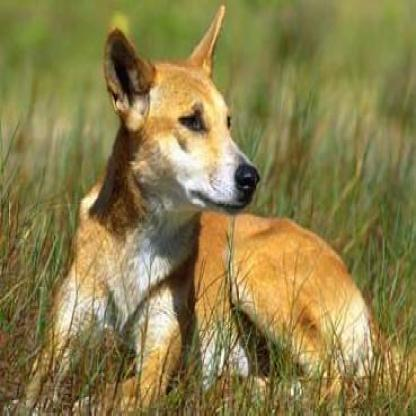dingo: (23, 3, 414, 413)
